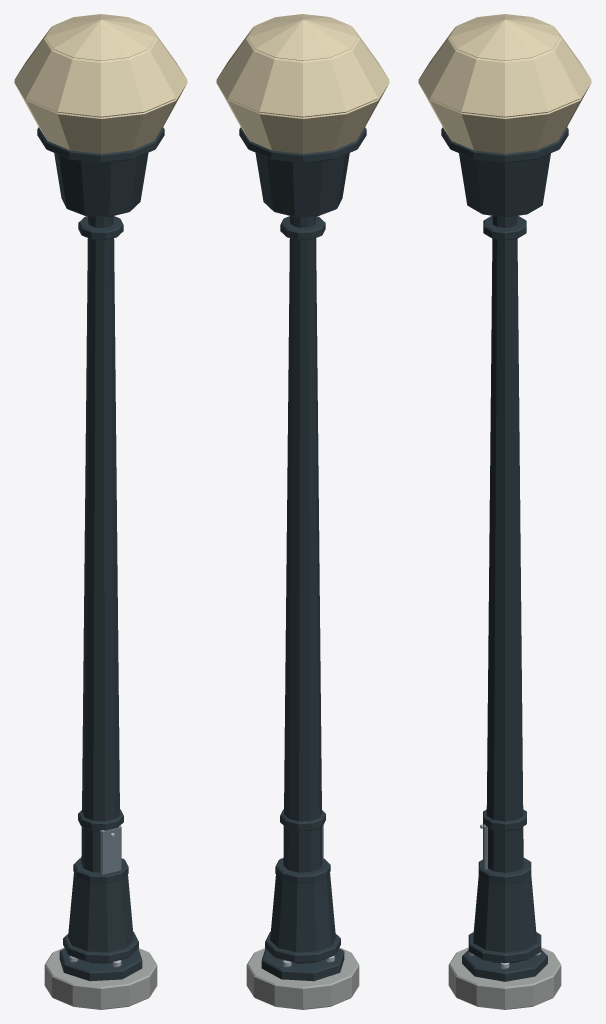
Rendered from b18_schoolhouse_globe_lamp.glb.
3 views of the same model, side by side, from view 1: azimuth 30°, elevation 25°; view 2: azimuth 150°, elevation 25°; view 3: azimuth 270°, elevation 25° (orthographic).
Visible parts, largest first — view 1: b18_schoolhouse_globe_lamp; view 2: b18_schoolhouse_globe_lamp; view 3: b18_schoolhouse_globe_lamp.
Boxes of the visible parts, x1,y1,x2,y2 form: b18_schoolhouse_globe_lamp: (14,14,187,1009); b18_schoolhouse_globe_lamp: (216,14,389,1009); b18_schoolhouse_globe_lamp: (418,14,591,1009).
Size of the model in its own units: 0.6155 by 3.78 by 0.6155.
